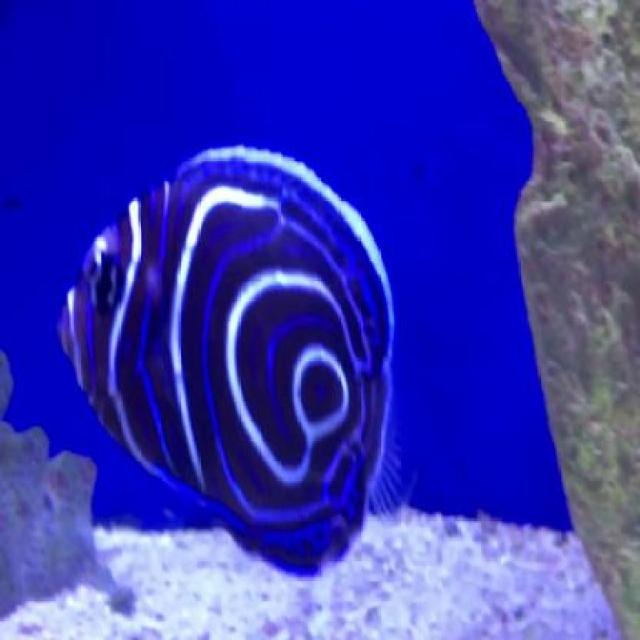AngelFish: (64, 148, 398, 578)
